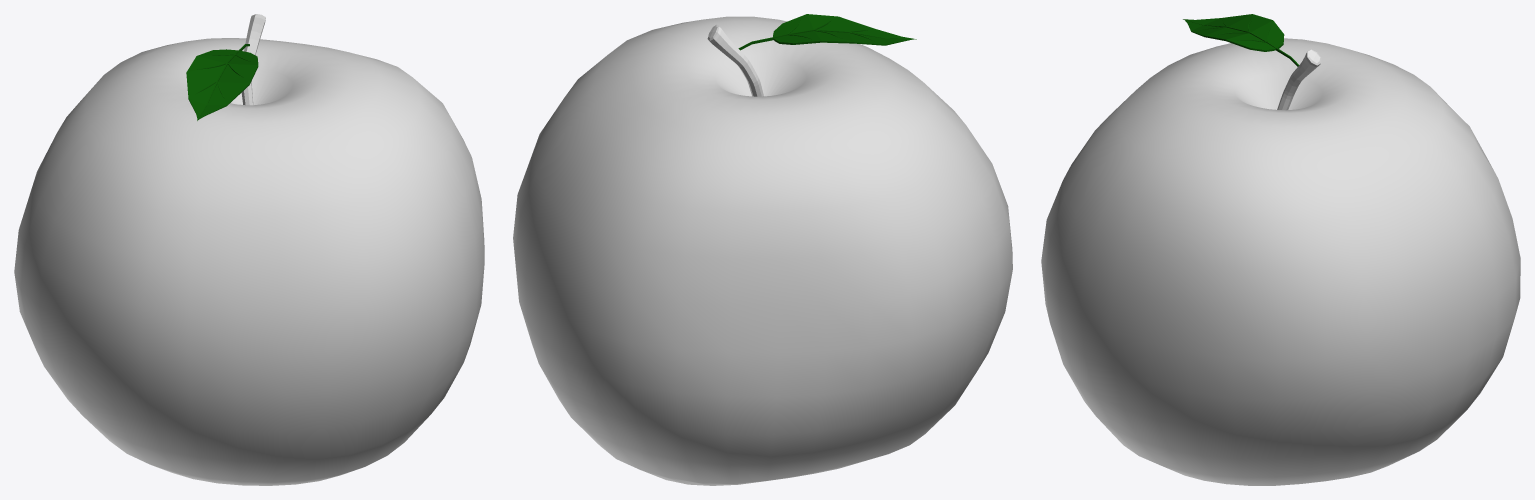
File: Apple.fbx
The picture shows the model from 3 angles, left to right: view 1: azimuth 30°, elevation 25°; view 2: azimuth 150°, elevation 25°; view 3: azimuth 270°, elevation 25°; orthographic projection. The views are drawn at different scales.
Parts seen in each view (by area): view 1: Apple; view 2: Apple; view 3: Apple.
Boxes of the visible parts, x1=… form: Apple: x1=14, y1=14, x2=484, y2=485; Apple: x1=513, y1=14, x2=1012, y2=485; Apple: x1=1041, y1=14, x2=1520, y2=485.
Bounding box in the file's own units: 0.2014 × 0.1886 × 0.2012.
